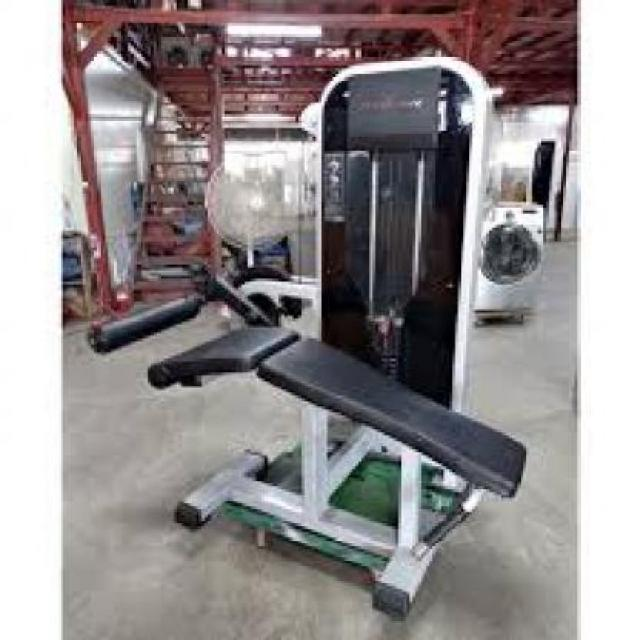reg curl machine: (91, 52, 535, 620)
